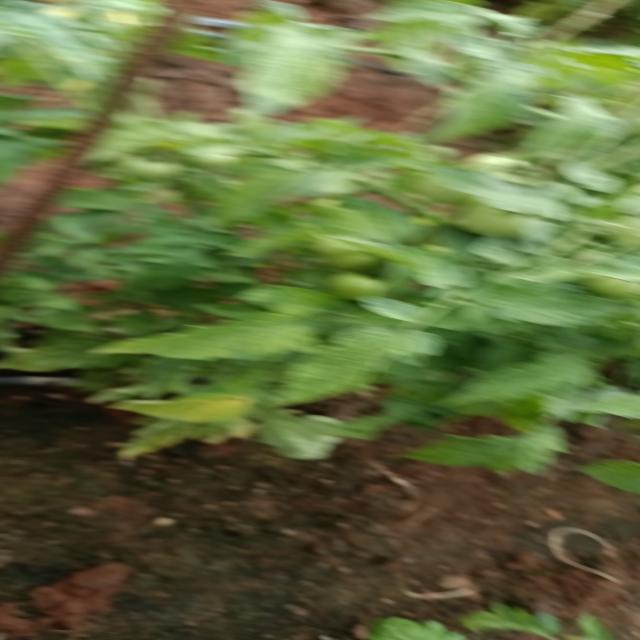Healthy Leaf: (94, 304, 304, 376)
